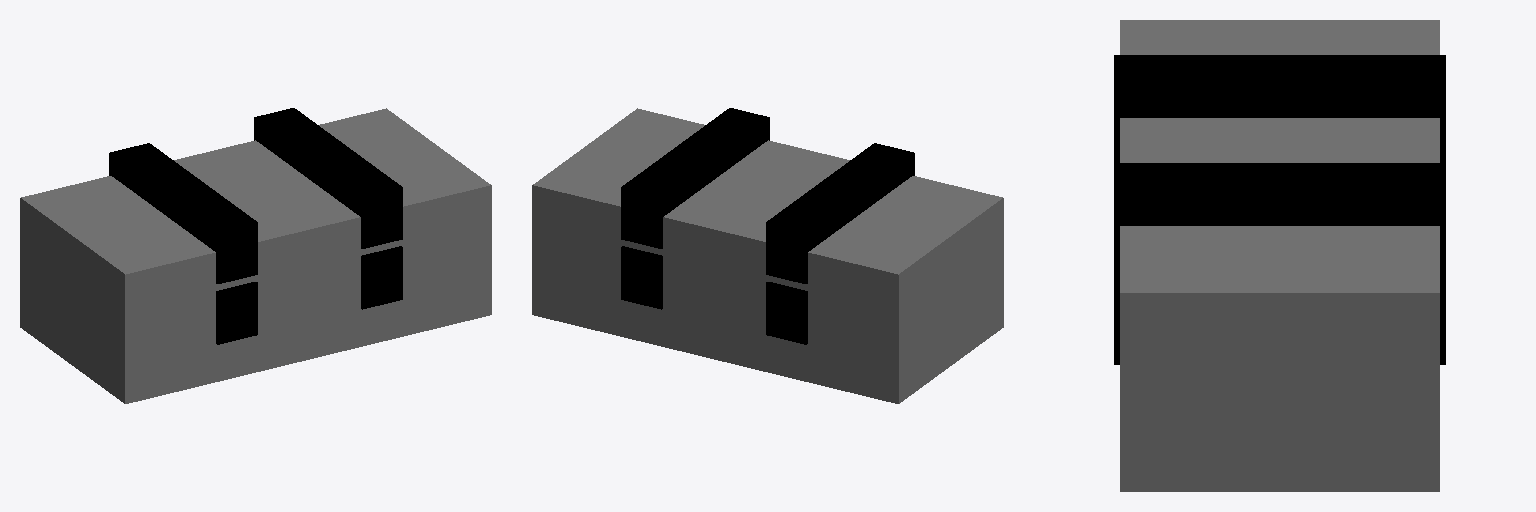
The robot description file, URDF, robot "wsg_50":
<?xml version="1.0" ?>
<!-- =================================================================================== -->
<!-- |    This document was autogenerated by xacro from urdf/wsg_50_mesh_collision.urdf.xacro | -->
<!-- |    EDITING THIS FILE BY HAND IS NOT RECOMMENDED                                 | -->
<!-- =================================================================================== -->
<!-- ===================================================================== -->
<!-- This xacro file calls the wsg_50 macro defined in wsg_50.urdf.xacro. It
     instantiates a WSG 50 URDF model that uses meshes for its collision model.
     Meshes are more accurate than primitive shapes or convex hulls but are also
     more computationally demanding.

     Note that if no mesh specification appears below, it's because the wsg_50
     macro automatically defaults to use mesh collision models.-->
<!-- ===================================================================== -->
<robot name="wsg_50" xmlns:controller="http://playerstage.sourceforge.net/gazebo/xmlschema/#controller" xmlns:interface="http://playerstage.sourceforge.net/gazebo/xmlschema/#interface" xmlns:sensor="http://playerstage.sourceforge.net/gazebo/xmlschema/#sensor" xmlns:xacro="http://www.ros.org/wiki/xacro">
  <!-- Instantiates a WSG 50 URDF model by calling the wsg_50 macro. -->
 
  <!-- BASE LINK -->
  <link name="ee_base">
    <inertial>
      <mass value="1.2"/>
      <origin xyz="0 0 0"/>
      <inertia ixx="1.0" ixy="0.0" ixz="0.0" iyy="1.0" iyz="0.0" izz="1.0"/>
    </inertial>
    <visual>
      <origin rpy="0 0 0" xyz="0.0 0 0"/>
      <geometry>
              <box size="0.146 0.0725 0.049521"/>

        <!-- <mesh filename="package://wsg_50_description/meshes/WSG50_110.obj" scale="1 1 1"/> -->
      </geometry>
      <material name="grey">
        <color rgba="0.5 0.5 0.5 1"/>
      </material>
    </visual>
    <collision>
      <origin rpy="0 0 0" xyz="0.0 0 0"/>
      <geometry>
        <box size="0.146 0.0725 0.049521"/>
            
        <!-- <mesh filename="package://wsg_50_description/meshes/WSG50_110.obj" scale="1 1 1"/> -->
      </geometry>
    </collision>
  </link>
  <gazebo reference="ee_base">
    <material>Gazebo/Grey</material>
    <turnGravityOff>false</turnGravityOff>
  </gazebo>
  <!-- GRIPPER LEFT -->
  <joint name="whisker_left_joint" type="prismatic">
    <limit effort="1.0" lower="-0.055" upper="-0.0027" velocity="1.0"/>
    <origin rpy="0 0 0" xyz="0 0 0"/>
    <!--origin xyz="-0.0067 0 0.049" rpy="0 0 0" /-->
    <parent link="ee_base"/>
    <child link="whisker_left_link"/>
    <dynamics damping="100" friction="100"/>
    <axis xyz="1 0 0"/>
    <limit effort="100" velocity="100"/>
  </joint>
  <transmission name="wsg_50_base_trans_left" type="pr2_mechanism_model/SimpleTransmission">
    <actuator name="wsg_50_base_motor_left"/>
    <joint name="whisker_left_joint"/>
    <mechanicalReduction>1</mechanicalReduction>
    <motorTorqueConstant>1</motorTorqueConstant>
  </transmission>
  <link name="whisker_left_link">
    <inertial>
      <mass value="0.1"/>
      <origin xyz="0 0 0"/>
      <inertia ixx="1.0" ixy="0.0" ixz="0.0" iyy="1.0" iyz="0.0" izz="1.0"/>
    </inertial>
    <visual>
      <origin rpy="0 0 0" xyz="0.0 0 0"/>
      <geometry>
                    <box size="0.016 0.075 0.02"/>

        <!-- <mesh filename="package://wsg_50_description/meshes/GUIDE_WSG50_110.obj" scale="0.001 0.001 0.001"/> -->
      </geometry>
      <material name="black">
        <color rgba="0 0 0 1"/>
      </material>
    </visual>
    <collision>
      <origin rpy="0 0 0" xyz="0 0 0"/>
      <geometry>
                    <box size="0.016 0.075 0.02"/>

        <!-- <mesh filename="package://wsg_50_description/meshes/GUIDE_WSG50_110.obj" scale="0.001 0.001 0.001"/> -->
      </geometry>
    </collision>
    <contact_coefficients kd="1.0" kp="1000.0" mu="0"/>
  </link>
  <gazebo reference="whisker_left_link">
    <material>Gazebo/Blue</material>
    <turnGravityOff>false</turnGravityOff>
  </gazebo>
  <!-- LEFT FINGER -->
  <joint name="wsg_50_guide_joint_finger_left" type="fixed">
    <origin rpy="0 0 0" xyz="0 0 0.023"/>
    <parent link="whisker_left_link"/>
    <child link="wsg_50_finger_left"/>
    <dynamics damping="100" friction="100"/>
    <axis xyz="1 0 0"/>
    <limit effort="100" velocity="100"/>
  </joint>
  <link name="wsg_50_finger_left">
    <inertial>
      <mass value="0.1"/>
      <origin xyz="0 0 0"/>
      <inertia ixx="1.0" ixy="0.0" ixz="0.0" iyy="1.0" iyz="0.0" izz="1.0"/>
    </inertial>
    <visual>
      <origin rpy="0 0 0" xyz="0.0 0 0"/>
      <geometry>
                          <box size="0.016 0.075 0.02"/>

        <!-- <mesh filename="package://wsg_50_description/meshes/WSG-FMF.obj" scale="0.001 0.001 0.001"/> -->
      </geometry>
      <material name="black">
        <color rgba="0 0 0 1"/>
      </material>
    </visual>
    <collision>
      <origin rpy="0 0 0" xyz="0 0 0"/>
      <geometry>
                          <box size="0.016 0.075 0.02"/>

        <!-- <mesh filename="package://wsg_50_description/meshes/WSG-FMF.obj" scale="0.001 0.001 0.001"/> -->
      </geometry>
    </collision>
    <contact_coefficients kd="1.0" kp="1000.0" mu="0"/>
  </link>
  <gazebo reference="wsg_50_finger_left">
    <material>Gazebo/Blue</material>
    <turnGravityOff>false</turnGravityOff>
  </gazebo>
  <!-- GRIPPER RIGHT -->
  <joint name="wsg_50_base_joint_gripper_right" type="prismatic">
    <limit effort="1.0" lower="0.0027" upper="0.055" velocity="1.0"/>
    <origin rpy="0 0 3.14159" xyz="0 0 0"/>
    <parent link="ee_base"/>
    <child link="whisker_right_link"/>
    <axis xyz="-1 0 0"/>
    <dynamics damping="100" friction="100"/>
    <limit effort="100" velocity="100"/>
  </joint>
  <transmission name="wsg_50_base_trans_right" type="pr2_mechanism_model/SimpleTransmission">
    <actuator name="wsg_50_base_motor_right"/>
    <joint name="wsg_50_base_joint_gripper_right"/>
    <mechanicalReduction>1</mechanicalReduction>
    <motorTorqueConstant>1</motorTorqueConstant>
  </transmission>
  <link name="whisker_right_link">
    <inertial>
      <mass value="0.1"/>
      <origin xyz="0 0 0"/>
      <inertia ixx="1.0" ixy="0.0" ixz="0.0" iyy="1.0" iyz="0.0" izz="1.0"/>
    </inertial>
    <visual>
      <origin rpy="0 0 0" xyz="0.0 0 0"/>
      <geometry>
                          <box size="0.016 0.075 0.02"/>

        <!-- <mesh filename="package://wsg_50_description/meshes/GUIDE_WSG50_110.obj" scale="0.001 0.001 0.001"/> -->
      </geometry>
      <material name="black">
        <color rgba="0 0 0 1"/>
      </material>
    </visual>
    <collision>
      <origin rpy="0 0 0" xyz="0 0 0"/>
      <geometry>
                          <box size="0.016 0.075 0.02"/>

        <!-- <mesh filename="package://wsg_50_description/meshes/GUIDE_WSG50_110.obj" scale="0.001 0.001 0.001"/> -->
      </geometry>
    </collision>
    <contact_coefficients kd="1.0" kp="1000.0" mu="0"/>
  </link>
  <gazebo reference="gripper_right">
    <material>Gazebo/White</material>
    <turnGravityOff>false</turnGravityOff>
  </gazebo>
  <!-- RIGHT FINGER -->
  <joint name="whisker_right_joint" type="fixed">
    <origin rpy="0 0 0" xyz="0 0 0.023"/>
    <parent link="whisker_right_link"/>
    <child link="wsg_50_finger_right"/>
    <dynamics damping="100" friction="100"/>
    <axis xyz="1 0 0"/>
    <limit effort="100" velocity="100"/>
  </joint>
  <link name="wsg_50_finger_right">
    <inertial>
      <mass value="0.1"/>
      <origin xyz="0 0 0"/>
      <inertia ixx="1.0" ixy="0.0" ixz="0.0" iyy="1.0" iyz="0.0" izz="1.0"/>
    </inertial>
    <visual>
      <origin rpy="0 0 0" xyz="0.0 0 0"/>
      <geometry>
                          <box size="0.016 0.075 0.02"/>

        <!-- <mesh filename="package://wsg_50_description/meshes/WSG-FMF.obj" scale="0.001 0.001 0.001"/> -->
      </geometry>
      <material name="black">
        <color rgba="0 0 0 1"/>
      </material>
    </visual>
    <collision>
      <origin rpy="0 0 0" xyz="0 0 0"/>
      <geometry>
                          <box size="0.016 0.075 0.02"/>

        <!-- <mesh filename="package://wsg_50_description/meshes/WSG-FMF.obj" scale="0.001 0.001 0.001"/> -->
      </geometry>
    </collision>
    <contact_coefficients kd="1.0" kp="1000.0" mu="0"/>
  </link>
  <gazebo reference="wsg_50_finger_right">
    <material>Gazebo/White</material>
    <turnGravityOff>false</turnGravityOff>
  </gazebo>
</robot>

--- What the picture shows (computed from the rendered views, not written in the file) ---
The picture shows the robot from 3 angles, left to right: view 1: azimuth 30°, elevation 25°; view 2: azimuth 150°, elevation 25°; view 3: azimuth 270°, elevation 25°; orthographic projection.
Model wsg_50 with 5 links and 4 joints (2 prismatic, 2 fixed), rooted at ee_base, posed joints at zero except 2 at the middle of their limits (whisker_left_joint = -0.0289, wsg_50_base_joint_gripper_right = 0.0289).
Visible links, largest first — view 1: ee_base, wsg_50_finger_left, wsg_50_finger_right, whisker_right_link, whisker_left_link; view 2: ee_base, wsg_50_finger_left, wsg_50_finger_right, whisker_right_link, whisker_left_link; view 3: ee_base, wsg_50_finger_right, wsg_50_finger_left, whisker_right_link.
Link boxes in pixels (x1,y1,x2,y2): ee_base: (20,108,491,403); wsg_50_finger_left: (109,143,257,283); wsg_50_finger_right: (254,108,402,248); whisker_right_link: (361,246,402,309); whisker_left_link: (216,282,257,344); ee_base: (532,108,1003,403); wsg_50_finger_left: (766,143,914,283); wsg_50_finger_right: (621,108,769,248); whisker_right_link: (621,246,662,309); whisker_left_link: (766,282,807,344); ee_base: (1120,20,1439,491); wsg_50_finger_right: (1114,163,1445,272); wsg_50_finger_left: (1114,55,1445,162); whisker_right_link: (1114,273,1445,364).
Size in the robot's own frame: 0.146 by 0.075 by 0.0578 metres.
Geometry: primitives only (box / cylinder / sphere), no mesh files.